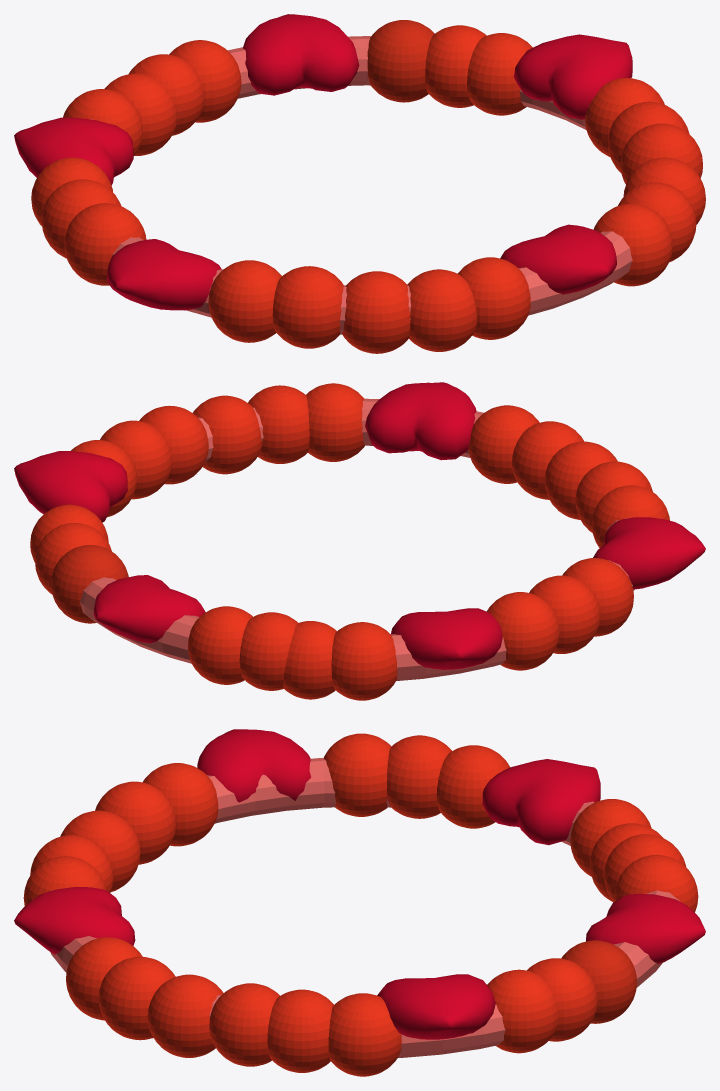
The model's file is Red.fbx.
The picture shows the model from 3 angles, top to bottom: view 1: azimuth 30°, elevation 25°; view 2: azimuth 150°, elevation 25°; view 3: azimuth 270°, elevation 25°; orthographic projection. The views are drawn at different scales.
Visible parts, largest first — view 1: Torus.034; view 2: Torus.034; view 3: Torus.034.
Part boxes in pixels (box(x1,y1,x2,y2)): Torus.034: box(14, 14, 705, 353); Torus.034: box(14, 382, 705, 700); Torus.034: box(14, 729, 705, 1076).
Size of the model in its own units: 242 by 34.3 by 232.
